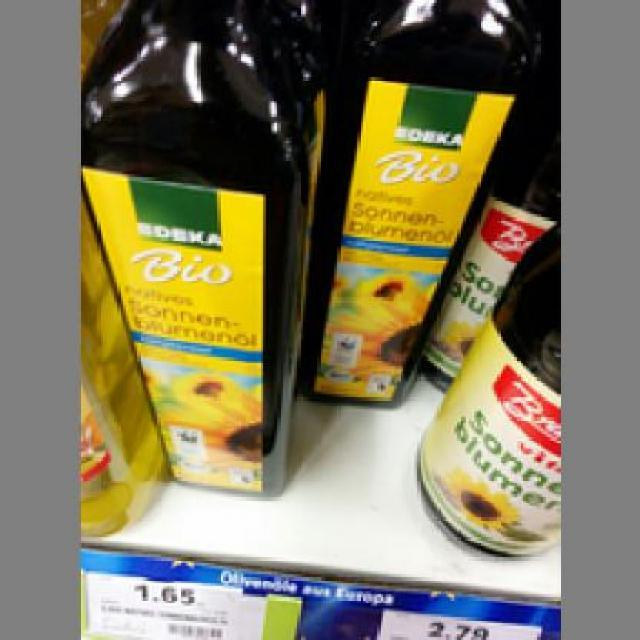Oil: (80, 0, 306, 495), (303, 6, 526, 406)
